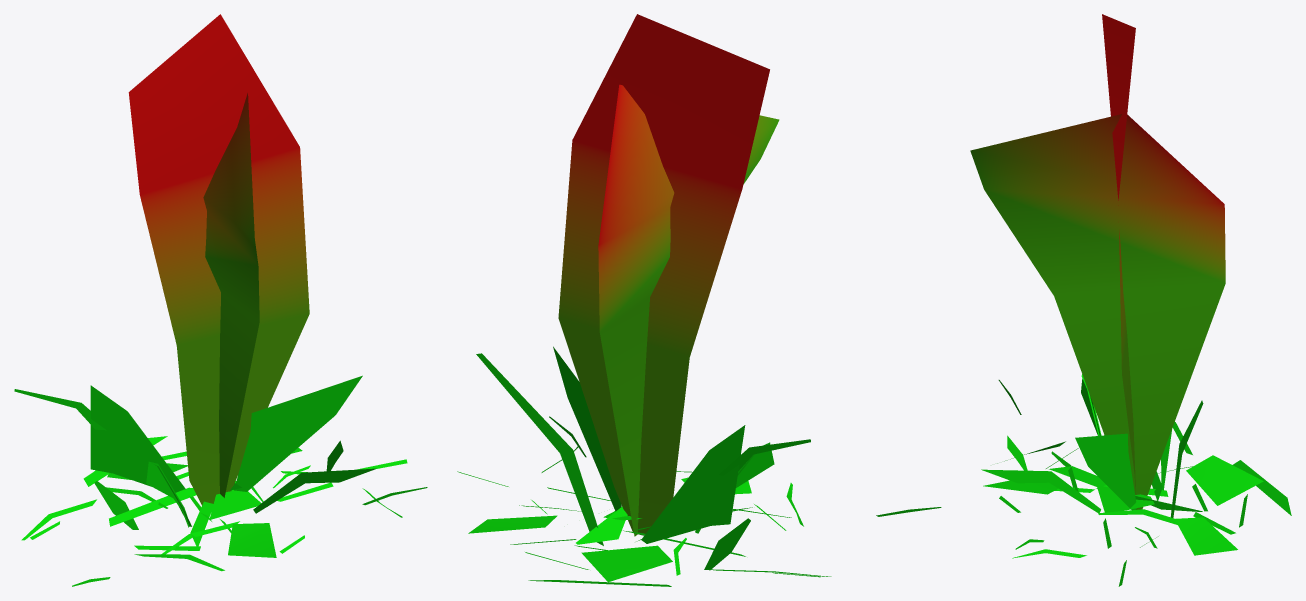
File: Var8_LOD3.fbx
3 renders of one model, left to right at view 1: azimuth 30°, elevation 25°; view 2: azimuth 150°, elevation 25°; view 3: azimuth 270°, elevation 25°, orthographic. The views are drawn at different scales.
Visible parts, largest first — view 1: _1abi_Var8_LOD3; view 2: _1abi_Var8_LOD3; view 3: _1abi_Var8_LOD3.
Boxes of the visible parts, x1,y1,x2,y2 form: _1abi_Var8_LOD3: (14,14,427,586); _1abi_Var8_LOD3: (457,14,941,586); _1abi_Var8_LOD3: (970,14,1291,586).
Bounding box in the file's own units: 28.12 × 34.07 × 20.18.
